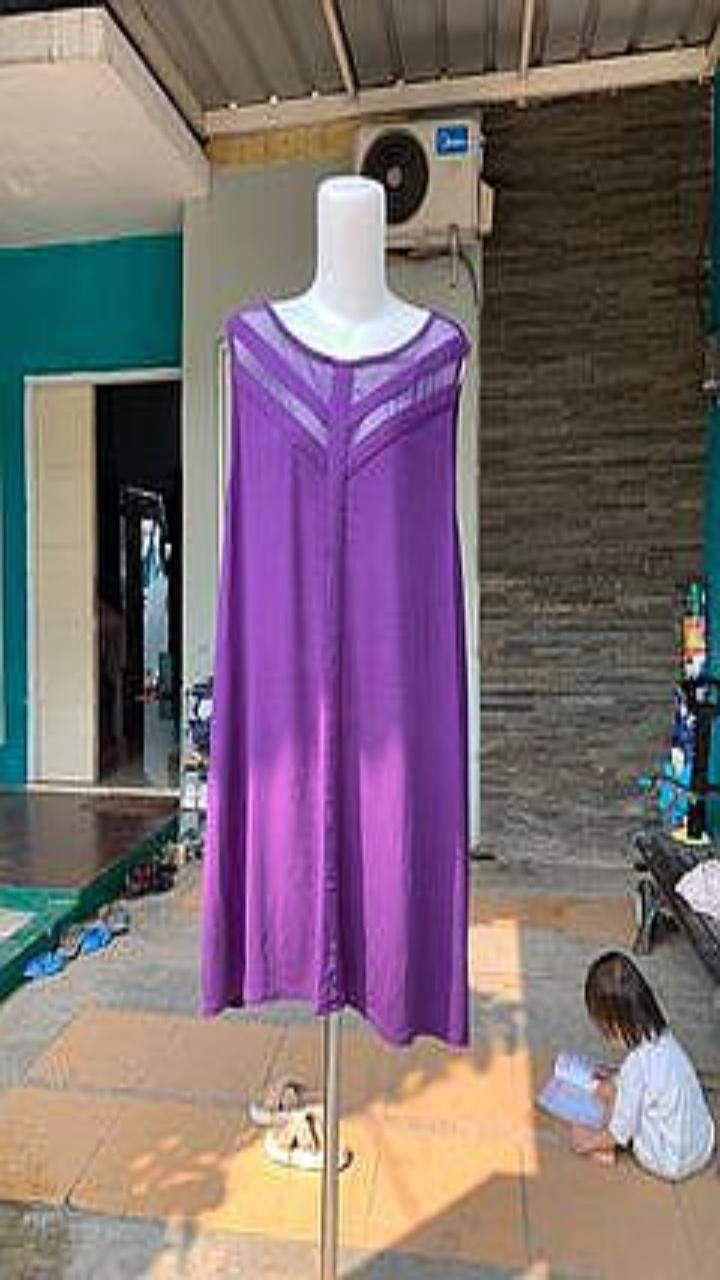Dresses: (203, 304, 467, 1043)
T-Shirt: (609, 1030, 715, 1179)
